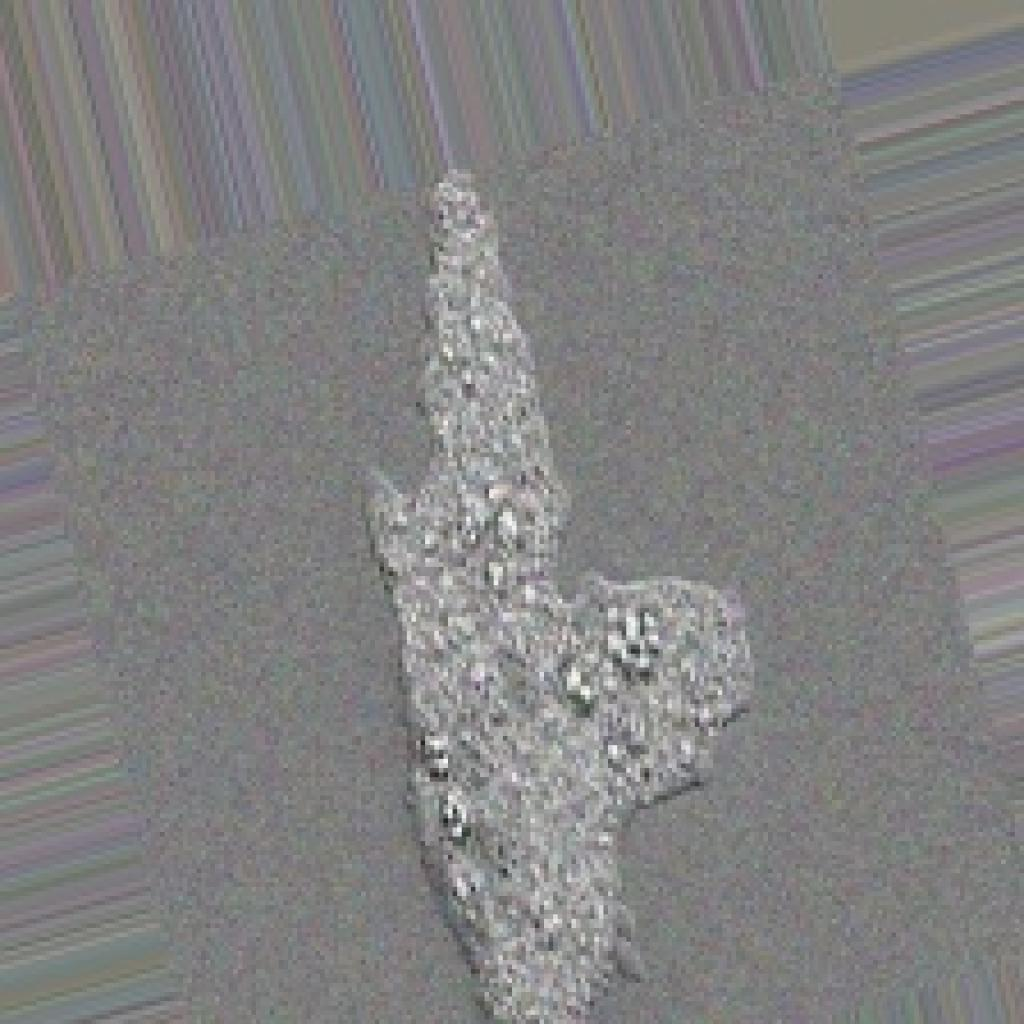Amoeba: (352, 160, 754, 1019)
